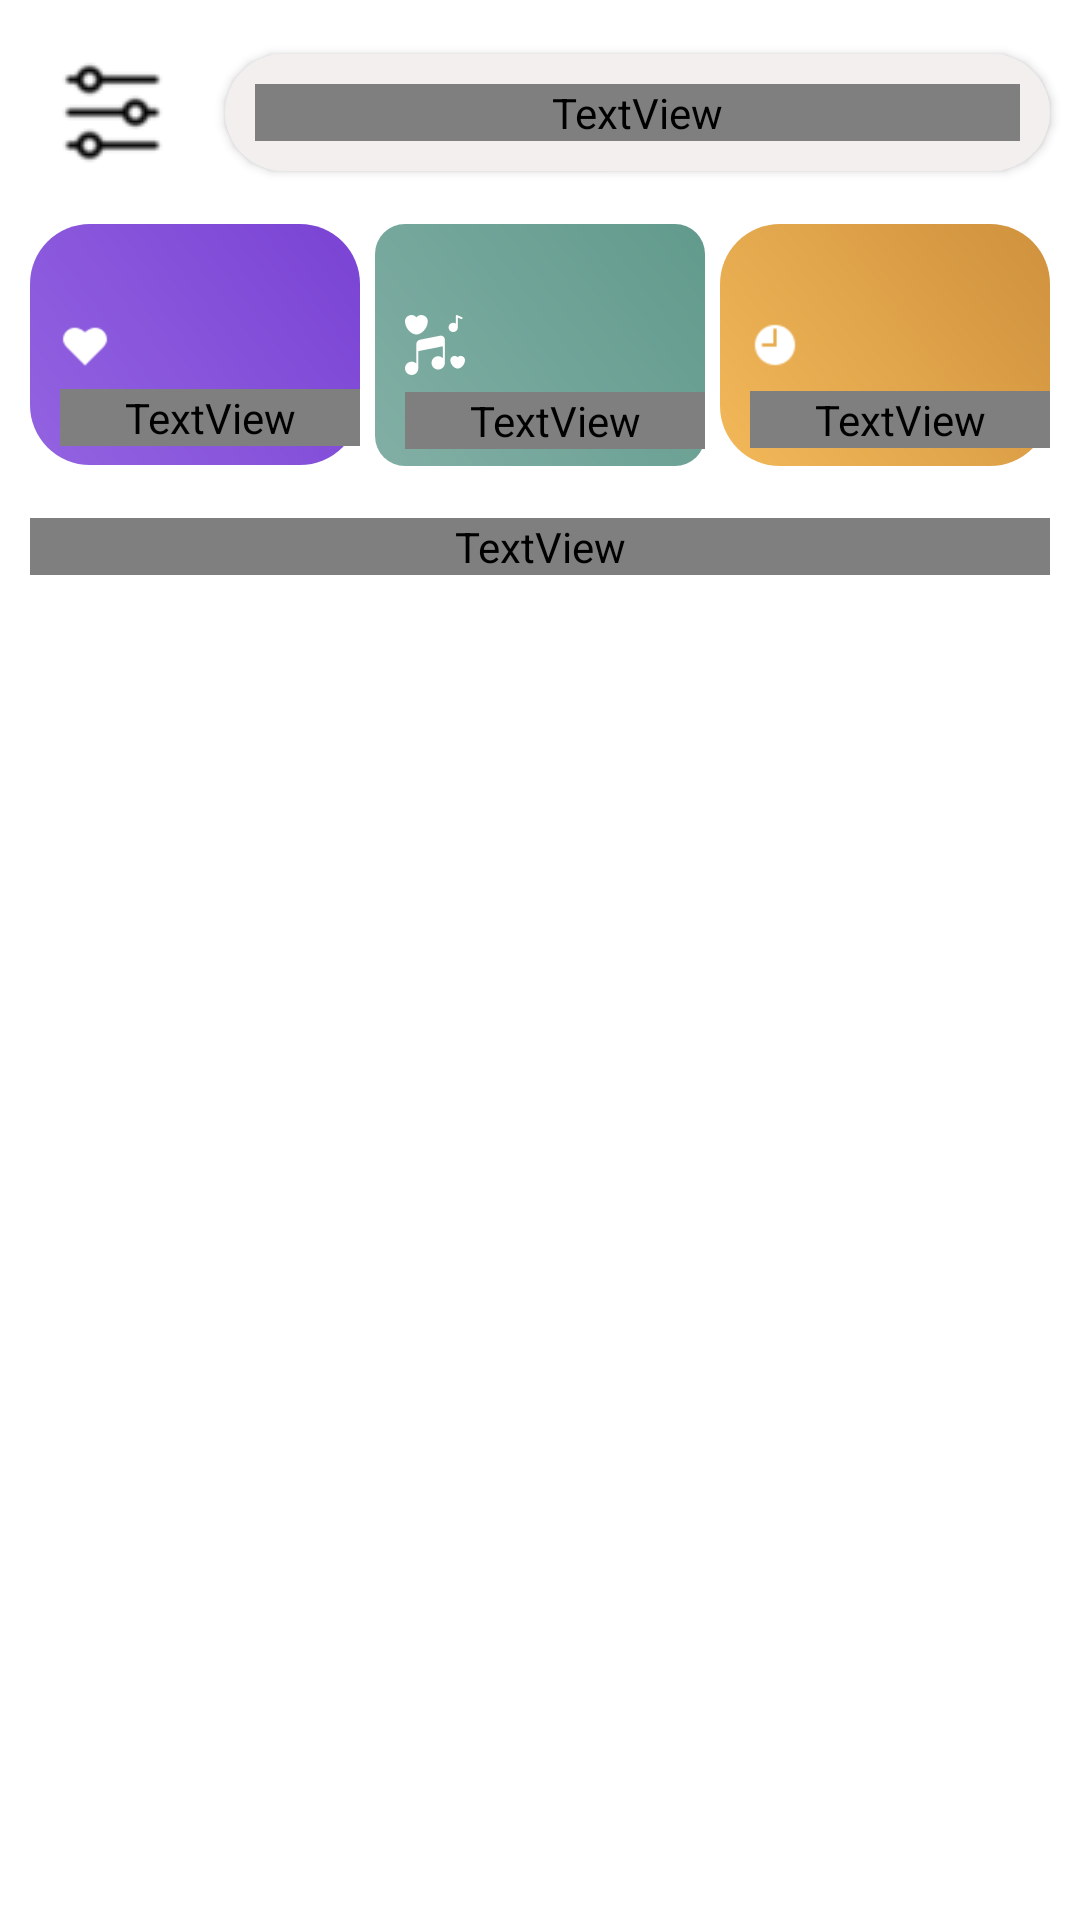

Icon click points for this 1080px x 1920px phone screenshot, format [x,y]:
heart: [85,346]
music note: [435,345]
options: [112,112]
recent: [775,345]
